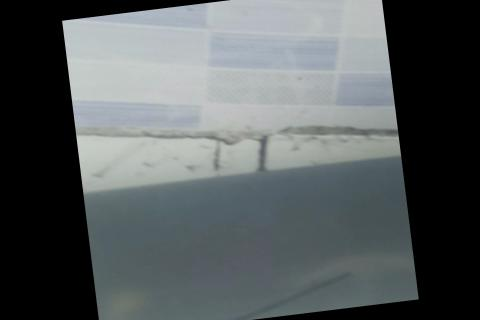keretakan: (96, 267, 357, 320)
